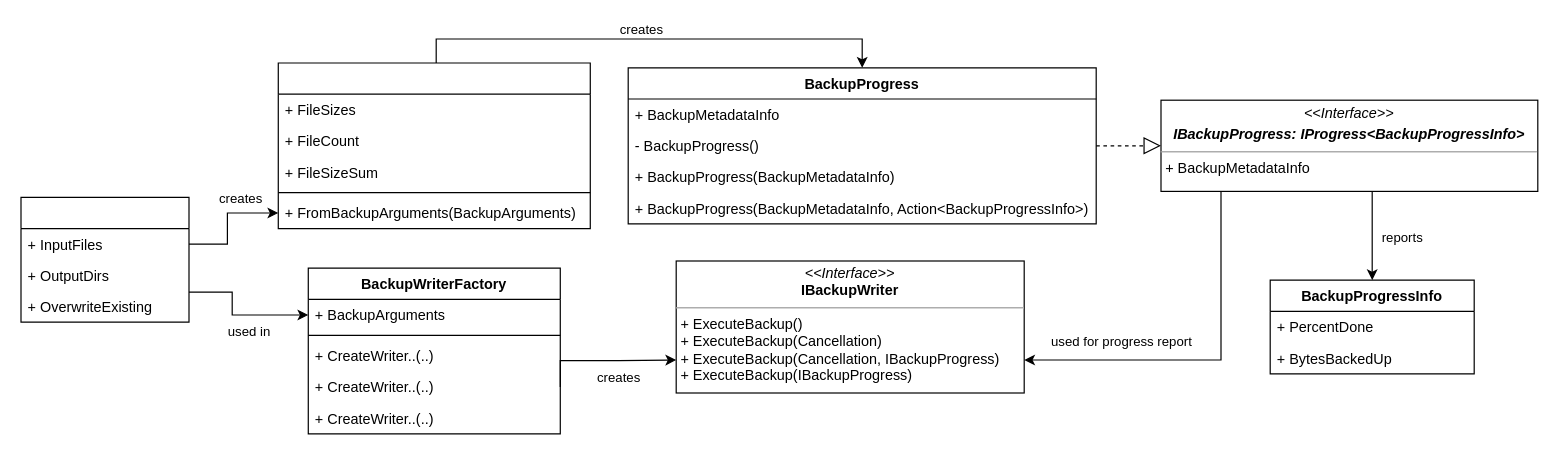
This 1559x457 diagram has some shape labels left out. The shapes that lost their labels are listed below. From the top down, each one's box as (x1, y1, x2, y2) in pixels, then its label:
(277, 62, 590, 229): BackupMetadataInfo
(20, 196, 189, 322): BackupArguments
